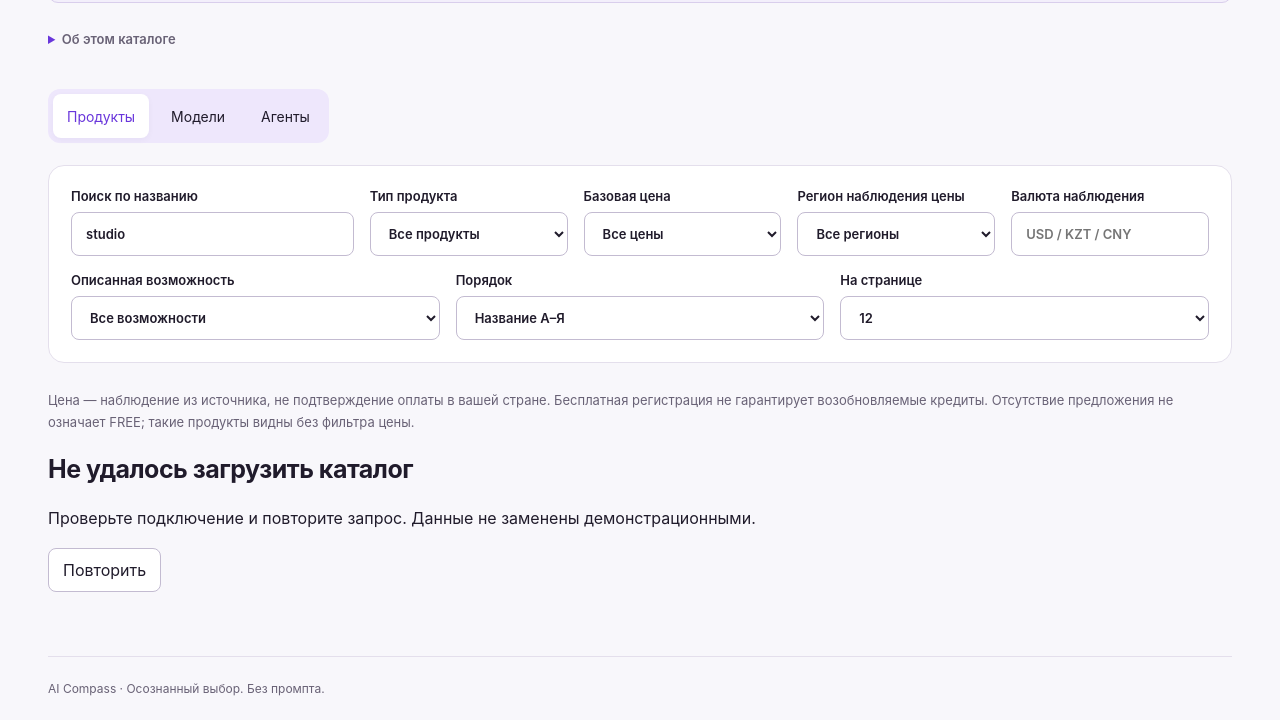
Test: retains query and retries a network error
(page scrolled)
Check: the message is shown, box [48,454,756,592]
Check: the search field labelled "Поиск по названию" holds "studio", box [71,212,354,256]
Click the button "Повторить" at x=105, y=570, box [48,548,161,592]
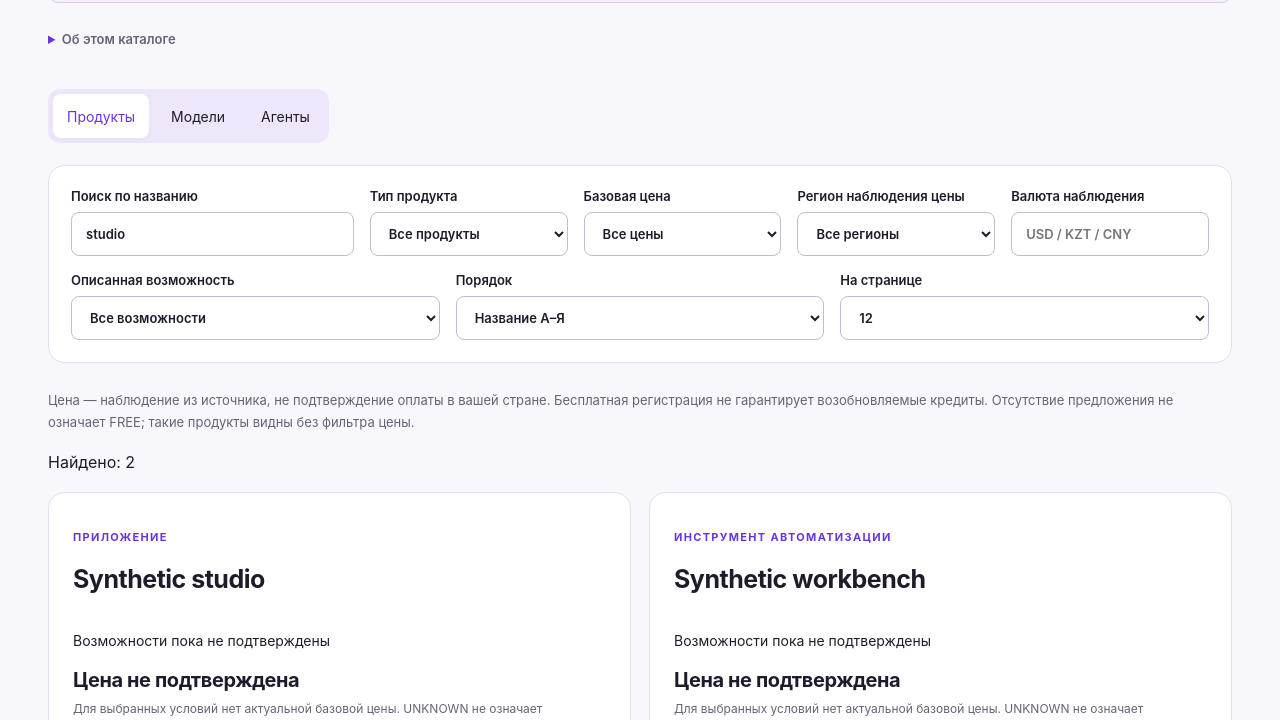
Check: the link "Synthetic studio" is shown, box [73,564,265,594]
